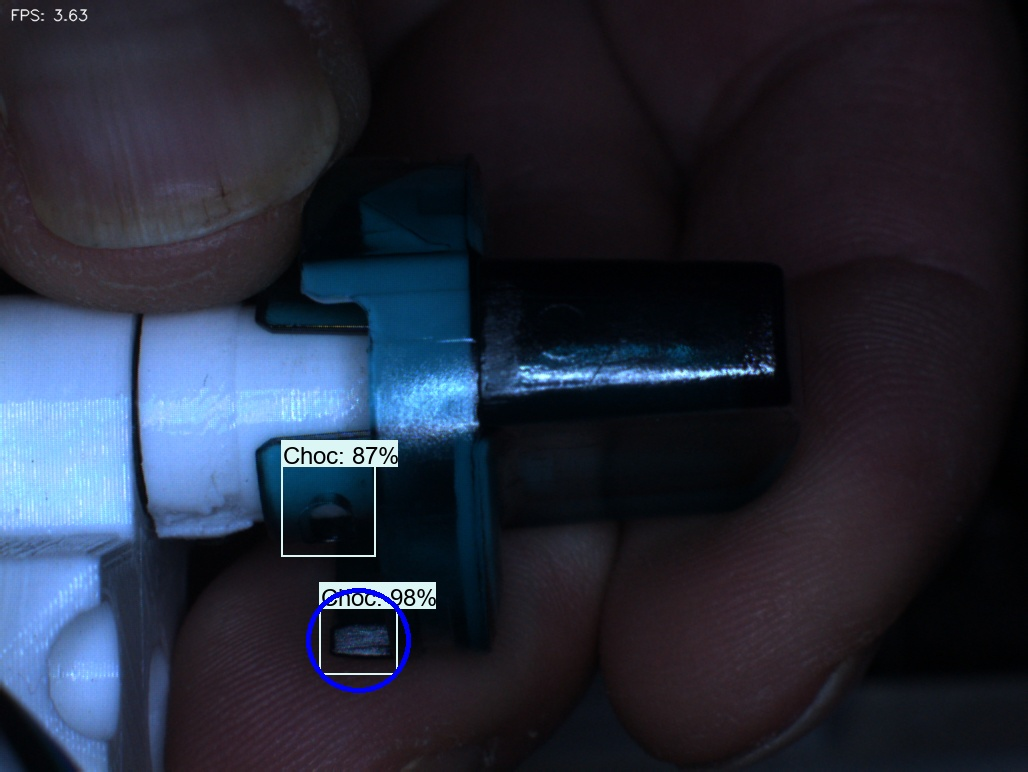DentOk: (338, 166, 403, 254)
